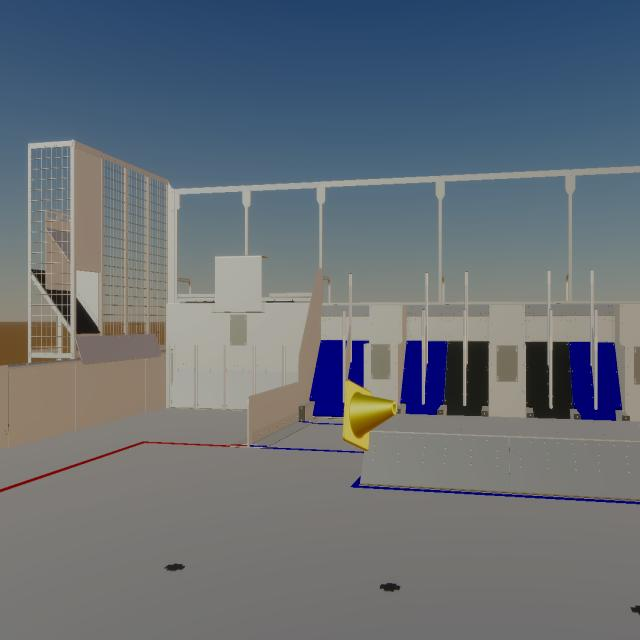frc_cone: (343, 379, 397, 451)
